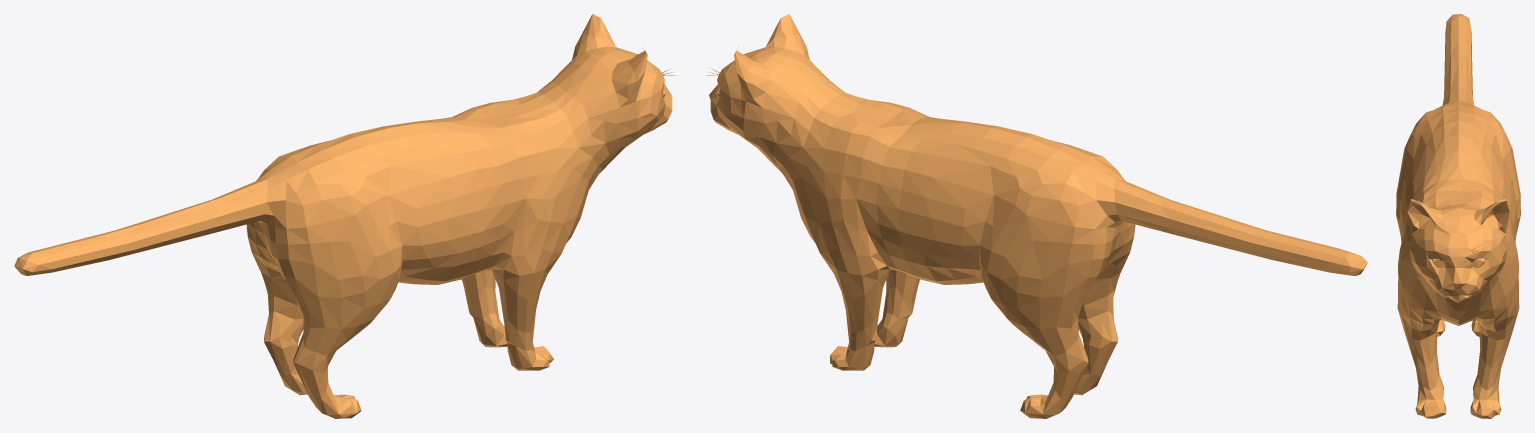
File: cat.gltf
3 renders of one model, left to right at view 1: azimuth 30°, elevation 25°; view 2: azimuth 150°, elevation 25°; view 3: azimuth 270°, elevation 25°, orthographic. The views are drawn at different scales.
Parts seen in each view (by area): view 1: root; view 2: root; view 3: root.
Part boxes in pixels (bbox=[...]): root: bbox=[14, 14, 674, 418]; root: bbox=[706, 14, 1367, 418]; root: bbox=[1396, 14, 1520, 418].
Bounding box in the file's own units: 19.35 × 8.41 × 3.67.
